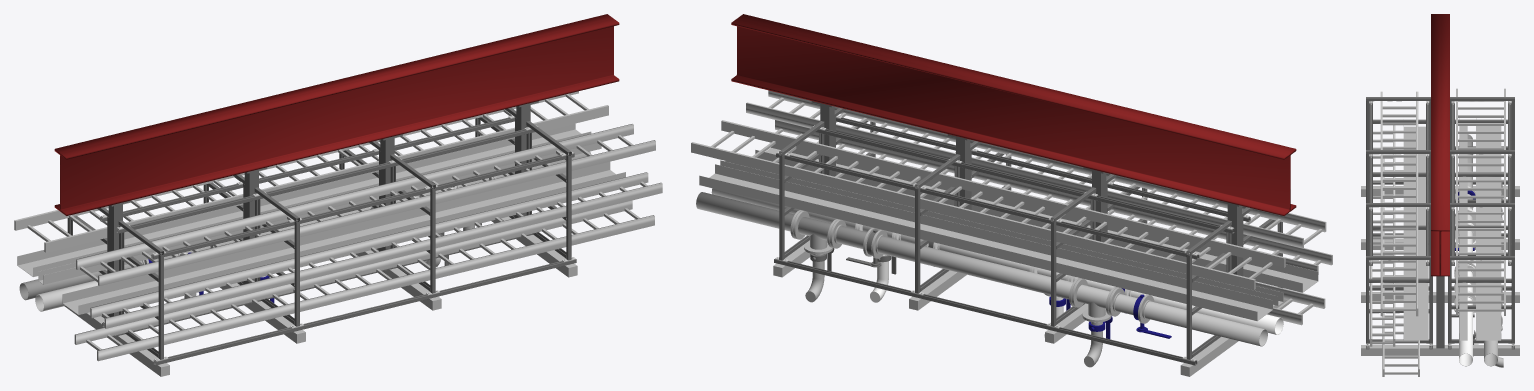
The model's file is Type_7&8.glb.
The picture shows the model from 3 angles, left to right: view 1: azimuth 30°, elevation 25°; view 2: azimuth 150°, elevation 25°; view 3: azimuth 270°, elevation 25°; orthographic projection. The views are drawn at different scales.
Visible parts, largest first — view 1: Cube.001, Untitled.485, Untitled.483, Untitled.472, Untitled.478, Untitled.486, Untitled.481, Untitled.398, Untitled.471, Untitled.394, Cylinder.024, Untitled.388 (+8 smaller); view 2: Cube.001, Untitled.481, Untitled.398, Untitled.471, Cylinder.024, Untitled.485, Untitled.486, Untitled.478, Untitled.394, Cylinder.025, Untitled.472, Untitled.483 (+9 smaller); view 3: Cube.001, Untitled.481, Untitled.485, Untitled.472, Untitled.398, Untitled.471, Untitled.486, Untitled.478, Untitled.483, Untitled.394, Untitled.387, Cylinder.025 (+13 smaller).
Boxes of the visible parts, left/top/right/bottom form: Cube.001: left=54, top=14, right=619, bottom=215; Untitled.485: left=76, top=124, right=655, bottom=286; Untitled.483: left=74, top=200, right=654, bottom=361; Untitled.472: left=115, top=121, right=576, bottom=365; Untitled.478: left=90, top=172, right=662, bottom=328; Untitled.486: left=62, top=161, right=625, bottom=314; Untitled.481: left=14, top=91, right=608, bottom=252; Untitled.398: left=17, top=123, right=591, bottom=276; Untitled.471: left=67, top=107, right=516, bottom=327; Untitled.394: left=38, top=143, right=601, bottom=284; Cylinder.024: left=19, top=151, right=590, bottom=300; Untitled.388: left=64, top=306, right=169, bottom=376; Cube.001: left=731, top=14, right=1296, bottom=215; Untitled.481: left=691, top=120, right=1285, bottom=289; Untitled.398: left=699, top=164, right=1272, bottom=321; Untitled.471: left=774, top=121, right=1234, bottom=365; Cylinder.024: left=696, top=192, right=1267, bottom=346; Untitled.485: left=746, top=90, right=1326, bottom=248; Untitled.486: left=755, top=144, right=1318, bottom=292; Untitled.478: left=775, top=120, right=1332, bottom=274; Untitled.394: left=720, top=160, right=1283, bottom=305; Cylinder.025: left=711, top=188, right=1283, bottom=334; Untitled.472: left=834, top=107, right=1282, bottom=288; Untitled.483: left=1255, top=282, right=1325, bottom=325; Cube.001: left=1431, top=14, right=1449, bottom=276; Untitled.481: left=1456, top=88, right=1505, bottom=315; Untitled.485: left=1380, top=91, right=1418, bottom=316; Untitled.472: left=1366, top=97, right=1432, bottom=349; Untitled.398: left=1476, top=118, right=1501, bottom=340; Untitled.471: left=1448, top=97, right=1514, bottom=349; Untitled.486: left=1403, top=125, right=1428, bottom=340; Untitled.478: left=1370, top=125, right=1395, bottom=346; Untitled.483: left=1382, top=154, right=1419, bottom=376; Untitled.394: left=1459, top=118, right=1467, bottom=340; Untitled.387: left=1361, top=345, right=1519, bottom=355; Cylinder.025: left=1459, top=134, right=1472, bottom=366.
Size of the model in its own units: 6.22 by 2.4 by 1.9.
